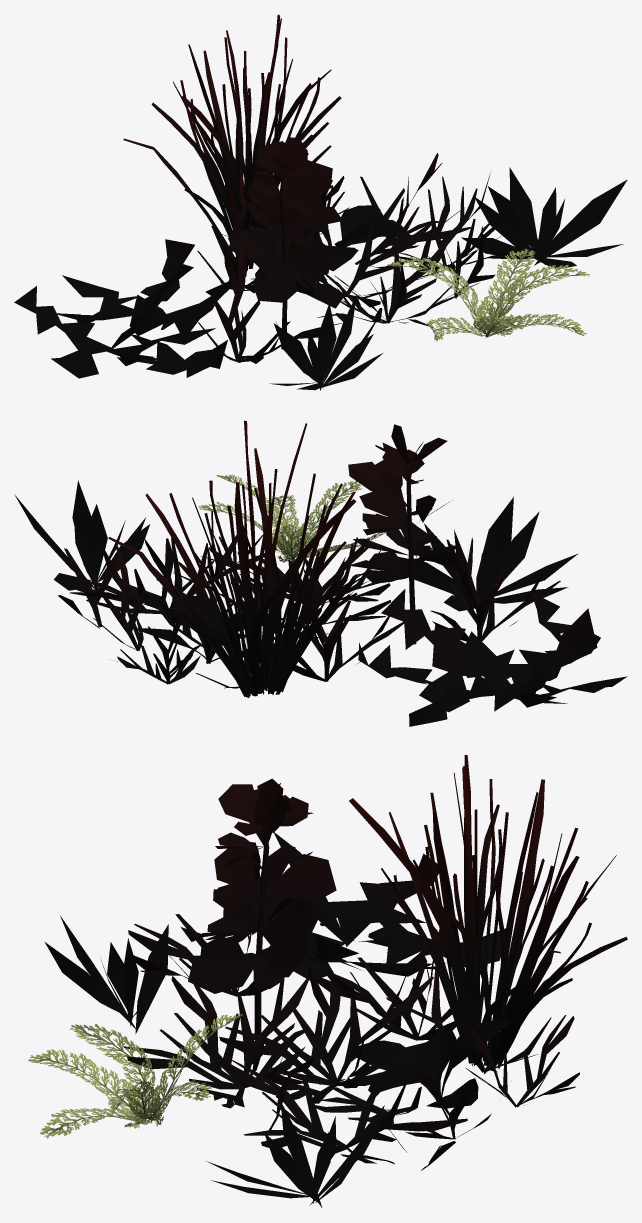
File: SM_Plant_Grass_Field_Assemble_02.fbx
3 renders of one model, top to bottom at view 1: azimuth 30°, elevation 25°; view 2: azimuth 150°, elevation 25°; view 3: azimuth 270°, elevation 25°, orthographic. The views are drawn at different scales.
Visible parts, largest first — view 1: SM_Plant_Grass_Field_Assemble_02; view 2: SM_Plant_Grass_Field_Assemble_02; view 3: SM_Plant_Grass_Field_Assemble_02.
Part boxes in pixels (x1,y1,x2,y2): SM_Plant_Grass_Field_Assemble_02: (14,14,627,390); SM_Plant_Grass_Field_Assemble_02: (14,420,627,726); SM_Plant_Grass_Field_Assemble_02: (28,755,627,1207).
Bounding box in the file's own units: 105 × 44.51 × 77.27.
